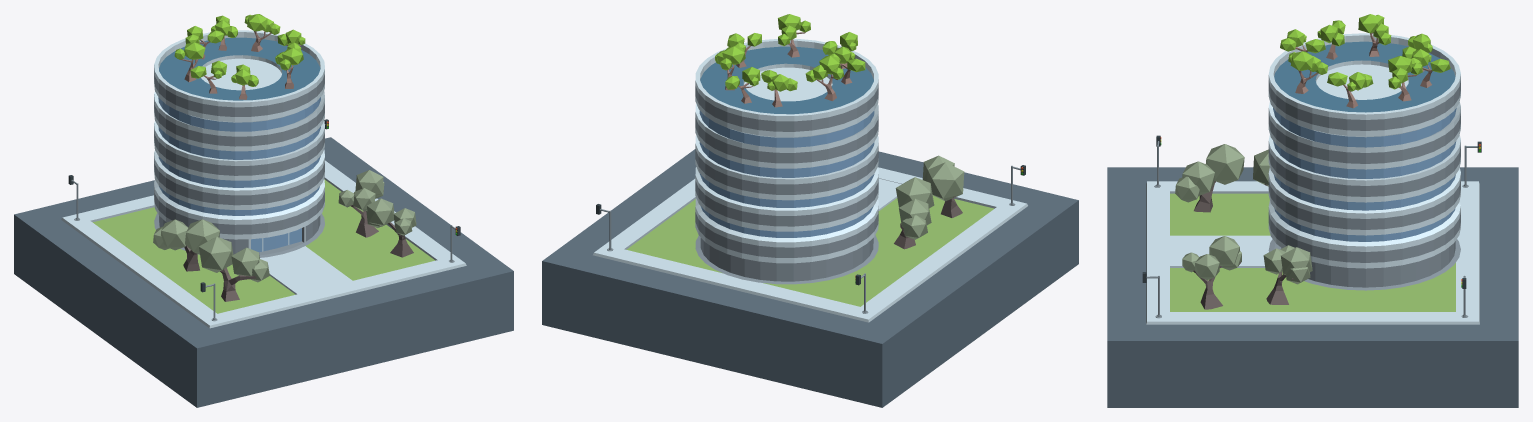
Rendered from apartment-2.glb.
3 views of the same model, side by side, from view 1: azimuth 30°, elevation 25°; view 2: azimuth 150°, elevation 25°; view 3: azimuth 270°, elevation 25° (orthographic). The views are drawn at different scales.
Visible parts, largest first — view 1: Cube.001, Cylinder, Cube.002, Plane.002, Plane.001, Cube.003, Cube.004, Cube.007, Cube.005, Cube.006, Cube.012, Cube.009 (+1 smaller); view 2: Cube.001, Cylinder, Plane.001, Plane.002, Cube.006, Cube.005, Cube.009, Cube.011, Cube.012, Cube.007, Cube.002; view 3: Cube.001, Cylinder, Plane.002, Cube.002, Cube.004, Cube.003, Cube.007, Cube.005, Cube.006, Cube.010, Cube, Cube.011 (+3 smaller).
Part boxes in pixels (<box>): Cube.001: <box>14,137,513,407</box>; Cylinder: <box>154,30,324,257</box>; Cube.002: <box>260,246,352,294</box>; Plane.002: <box>198,236,269,301</box>; Plane.001: <box>153,219,219,271</box>; Cube.003: <box>338,170,384,237</box>; Cube.004: <box>366,198,416,257</box>; Cube.007: <box>244,14,280,51</box>; Cube.005: <box>275,48,303,88</box>; Cube.006: <box>174,42,205,82</box>; Cube.012: <box>190,60,226,93</box>; Cube.009: <box>185,26,224,59</box>; Cube.001: <box>542,149,1078,407</box>; Cylinder: <box>695,39,878,284</box>; Plane.001: <box>894,177,934,249</box>; Plane.002: <box>922,155,964,217</box>; Cube.006: <box>805,55,844,101</box>; Cube.005: <box>778,14,810,57</box>; Cube.009: <box>761,70,797,107</box>; Cube.011: <box>725,67,760,103</box>; Cube.012: <box>828,46,865,84</box>; Cube.007: <box>715,46,745,90</box>; Cube.002: <box>878,178,901,210</box>; Cube.001: <box>1107,167,1518,407</box>; Cylinder: <box>1268,33,1460,290</box>; Plane.002: <box>1175,144,1244,212</box>; Cube.002: <box>1170,235,1272,267</box>; Cube.004: <box>1182,236,1241,309</box>; Cube.003: <box>1263,245,1312,304</box>; Cube.007: <box>1388,56,1422,101</box>; Cube.005: <box>1288,51,1327,93</box>; Cube.006: <box>1358,14,1391,56</box>; Cube.010: <box>1327,72,1373,108</box>; Cube: <box>1280,29,1325,53</box>; Cube.011: <box>1410,49,1450,87</box>.
Size of the model in its own units: 17.05 by 12.95 by 17.05.
